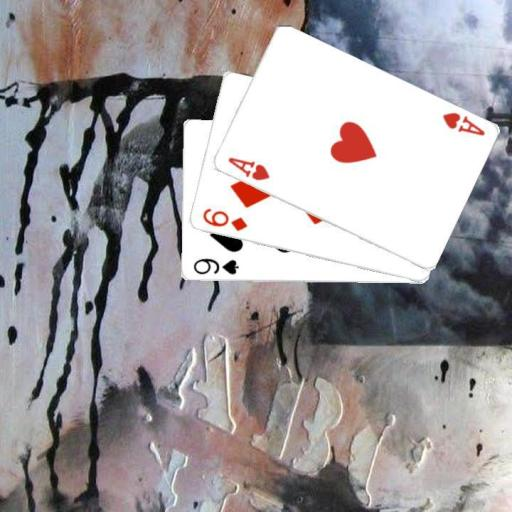6D: (199, 206, 248, 233)
9S: (189, 255, 240, 277)
AH: (224, 154, 271, 183), (439, 109, 486, 138)
